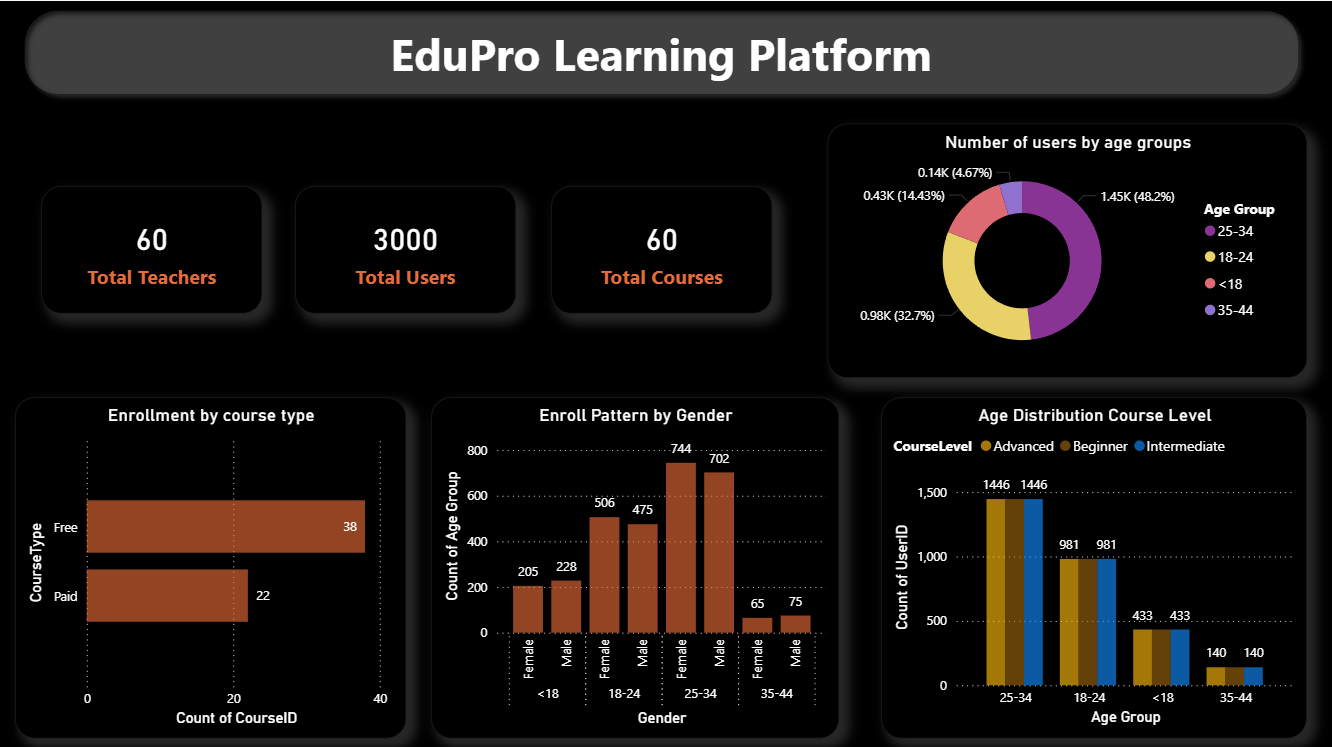

This screenshot's page, from the dashboard's own definition file:
{"tool":"powerbi","page":{"name":"Page 1","canvas":[1280,720],"ordinal":0},"visuals":[{"type":"card","fields":{"Values":["CountNonNull(Teachers.TeacherID)"]},"box":[39,177.5,212.1,122.6],"z":0,"group":"g1"},{"type":"clusteredColumnChart","title":"Enroll Pattern by Gender","fields":{"Category":["Users.Age Group","Users.Gender"],"Y":["CountNonNull(Users.Age Group)"]},"box":[414.1,379.4,391,327.5],"z":0},{"type":"card","fields":{"Values":["Count(Users.UserID)"]},"box":[282.8,177.5,212.1,122.6],"z":1000,"group":"g1"},{"type":"clusteredColumnChart","title":"Age Distribution Course Level","fields":{"Category":["Users.Age Group"],"Series":["Courses.CourseLevel"],"Y":["CountNonNull(Users.UserID)"]},"box":[845.5,379.4,408.3,327.5],"z":1000},{"type":"card","fields":{"Values":["Count(Courses.CourseID)"]},"box":[528.1,177.5,212.1,122.6],"z":2000,"group":"g1"},{"type":"clusteredBarChart","title":"Enrollment by course type","fields":{"Y":["CountNonNull(Courses.CourseID)"],"Category":["Courses.CourseType"]},"box":[14.4,379.4,375.1,327.5],"z":2000},{"type":"donutChart","title":"Number of users by age groups","fields":{"Category":["Users.Age Group"],"Y":["CountNonNull(Users.UserID)"]},"box":[793.5,116.9,460.2,243.8],"z":3000},{"type":"shape","box":[14.4,0,1239.3,98.1],"z":4000},{"type":"group","id":"g1","title":"Group 1","box":[39,177.5,701.2,122.6],"z":5000}]}

Visuals, with their boxes in screenshot pixels (x1, y1, x2, y2), scaled from the page's 1280x720 canvas onto the 1332x747 screenshot:
card - CountNonNull(Teachers.TeacherID): l=41, t=184, r=261, b=311
"Enroll Pattern by Gender" clusteredColumnChart: l=431, t=394, r=838, b=733
card - Count(Users.UserID): l=294, t=184, r=515, b=311
"Age Distribution Course Level" clusteredColumnChart: l=880, t=394, r=1305, b=733
card - Count(Courses.CourseID): l=550, t=184, r=770, b=311
"Enrollment by course type" clusteredBarChart: l=15, t=394, r=405, b=733
"Number of users by age groups" donutChart: l=826, t=121, r=1305, b=374
shape: l=15, t=0, r=1305, b=102
"Group 1" group: l=41, t=184, r=770, b=311
